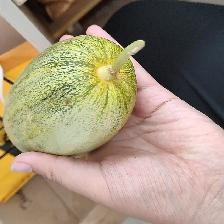gua: (15, 41, 127, 142)
